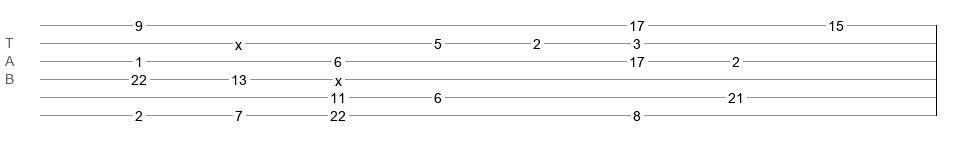1: (135, 54, 143, 64)
11: (330, 90, 346, 100)
13: (231, 72, 247, 82)
15: (828, 18, 844, 28)
17: (629, 54, 645, 64), (629, 18, 645, 28)
2: (135, 108, 143, 118), (533, 36, 541, 46), (732, 54, 740, 64)
21: (728, 90, 744, 100)
22: (131, 72, 147, 82), (330, 108, 346, 118)
3: (633, 36, 641, 46)
5: (434, 36, 442, 46)
6: (334, 54, 342, 64), (434, 90, 442, 100)
7: (235, 108, 243, 118)
8: (633, 108, 641, 118)
9: (135, 18, 143, 28)
x: (235, 37, 242, 45), (335, 73, 342, 81)
